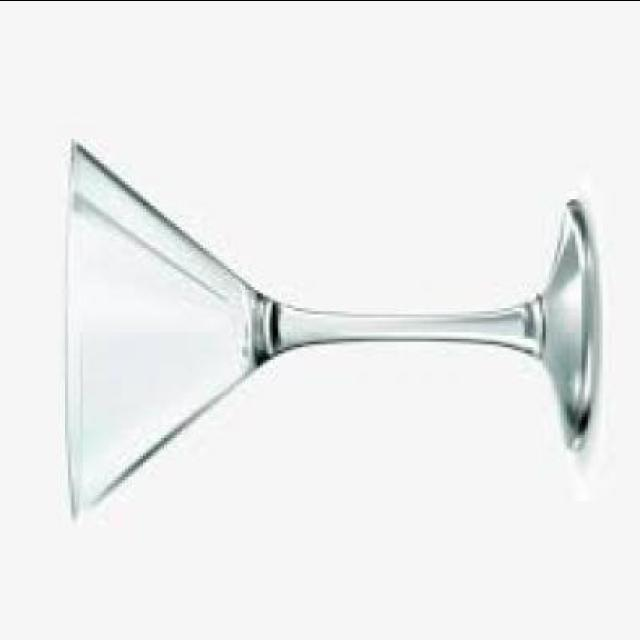kaca: (65, 136, 596, 516)
